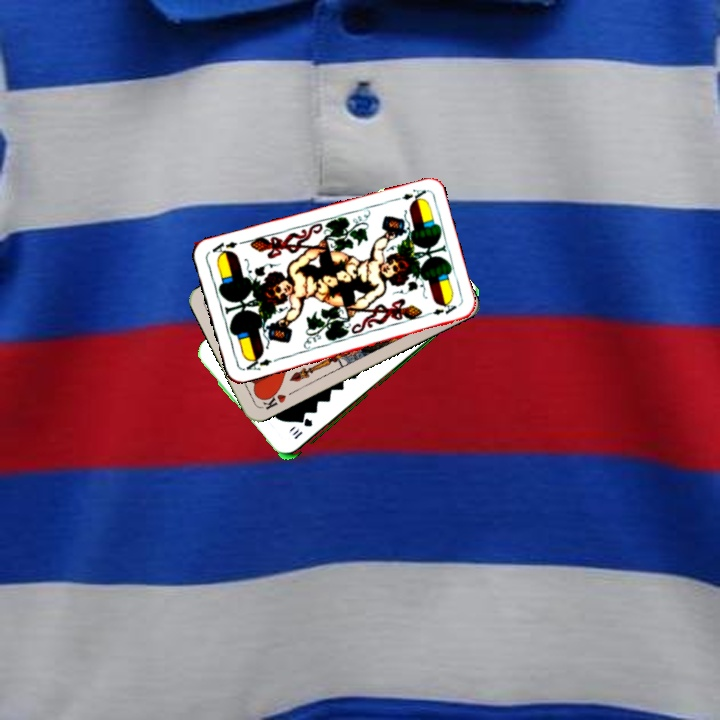EA: (388, 185, 428, 205), (240, 352, 274, 373)
G10: (288, 415, 315, 442)
HK: (256, 386, 289, 412)
